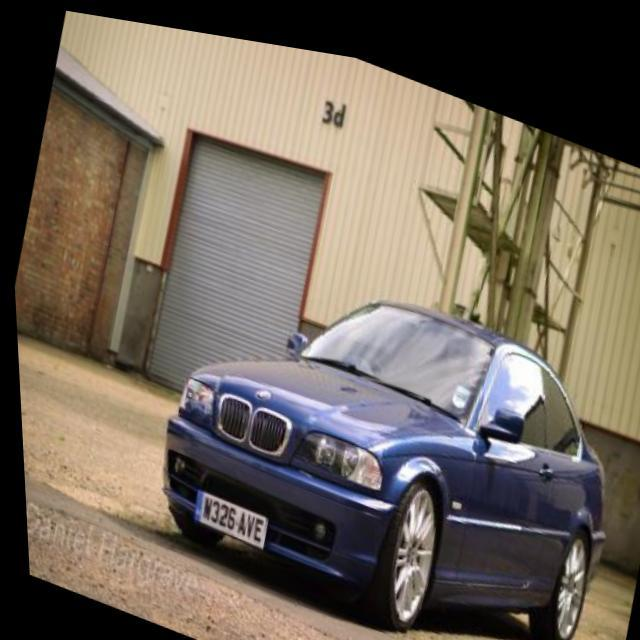license_plate: (184, 482, 265, 542)
